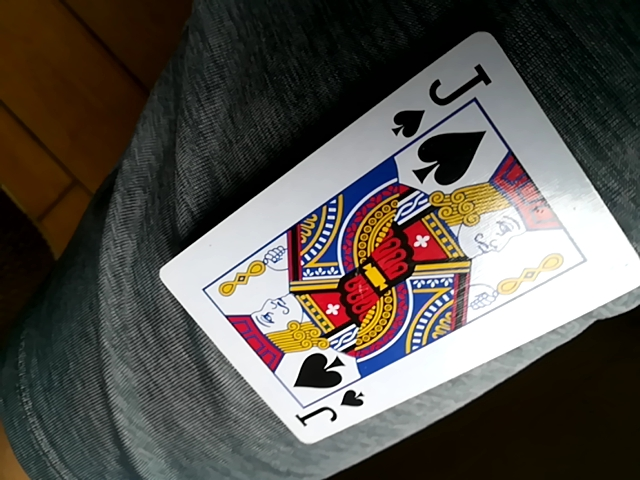ht j: (156, 32, 639, 445)
